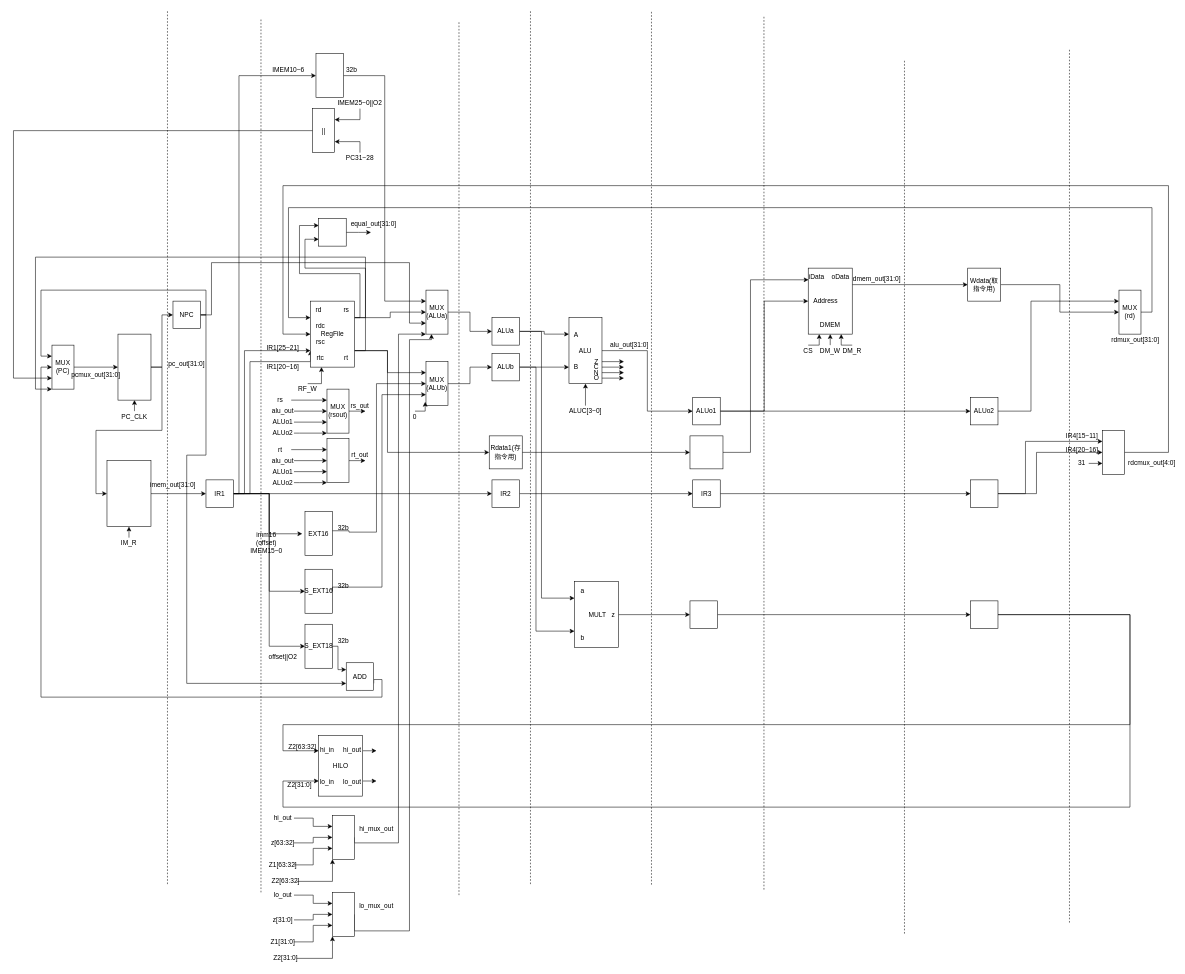
Image size: 1185x974. Some labels were removed from this diagram. The box of each missing label's shape, as (x1, y1, x2, y2) in pixels:
0 IMEM 31: (106, 460, 151, 527)
=比较器: (318, 218, 346, 246)
EXT5: (315, 53, 343, 98)
IR4: (970, 479, 998, 507)
MUX (hiout): (332, 815, 354, 859)
MUX (loout): (332, 892, 354, 936)
MUX (rdc): (1102, 430, 1124, 474)
MUX (rtout): (326, 438, 349, 483)
PC: (117, 334, 151, 400)
Rdata2(存指令用): (689, 435, 723, 469)
Z1: (689, 600, 717, 628)
Z2: (970, 600, 998, 628)
